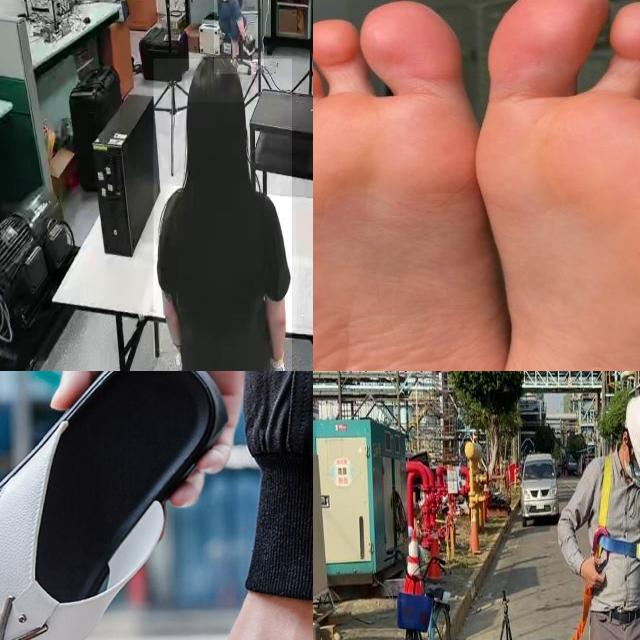Barefoots: (313, 0, 496, 371), (481, 0, 640, 371)
Harness: (593, 456, 640, 561)
head_nohelmet: (186, 53, 244, 103)
person: (153, 58, 292, 371), (214, 0, 264, 73)
shoes: (240, 33, 254, 57)
